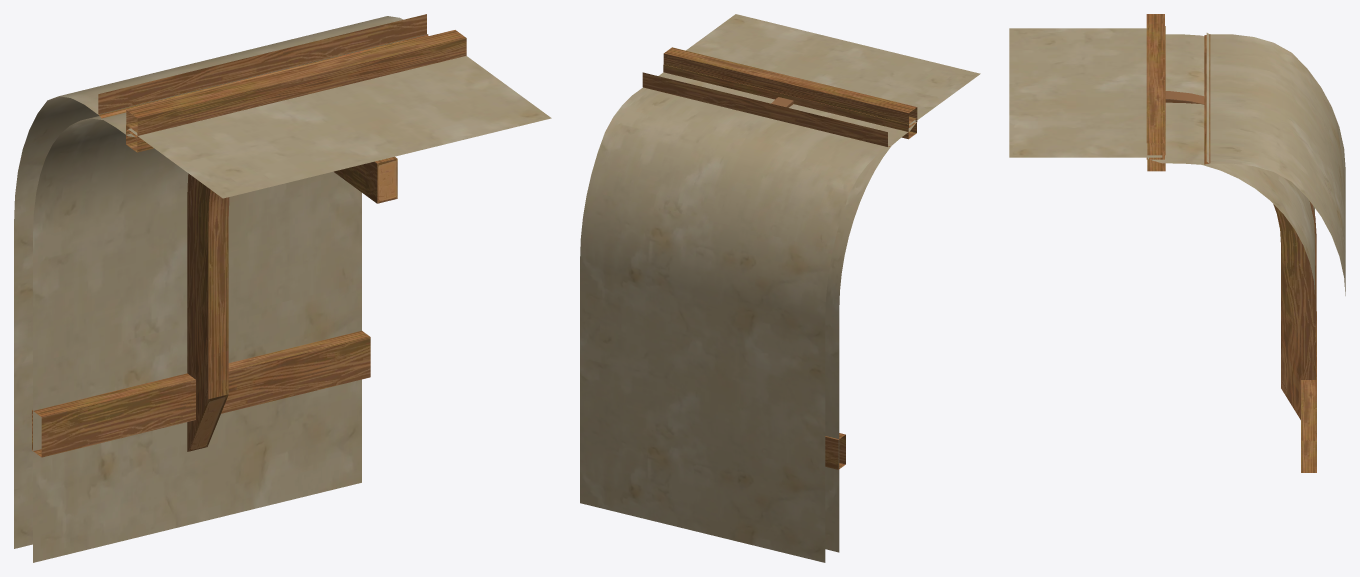
File: Overhang_Plaster_Long.glb
3 views of the same model, side by side, from view 1: azimuth 30°, elevation 25°; view 2: azimuth 150°, elevation 25°; view 3: azimuth 270°, elevation 25° (orthographic). The views are drawn at different scales.
Parts seen in each view (by area): view 1: Overhang_Plaster_Long; view 2: Overhang_Plaster_Long; view 3: Overhang_Plaster_Long.
Boxes of the visible parts, box(x1,y1,x2,y2) form: Overhang_Plaster_Long: box(14, 14, 551, 562); Overhang_Plaster_Long: box(580, 14, 980, 562); Overhang_Plaster_Long: box(1009, 14, 1345, 472).
Bounding box in the file's own units: 2 × 3.03 × 2.2.
2 materials, 2 textured.
